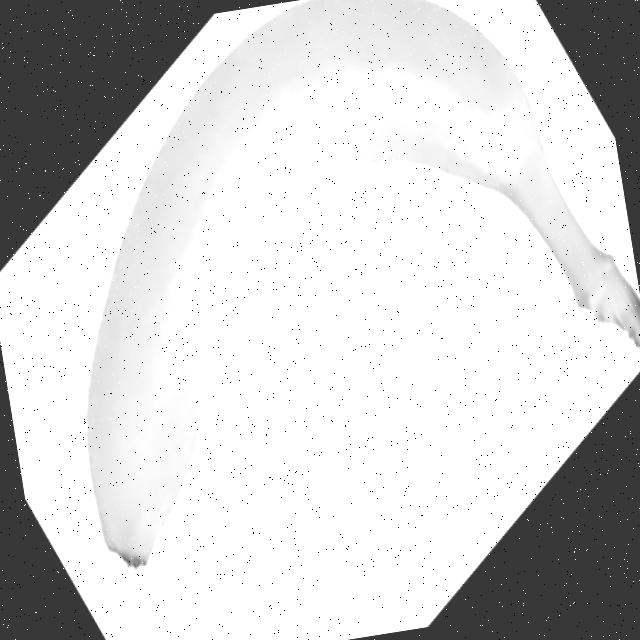banana: (19, 0, 640, 575)
